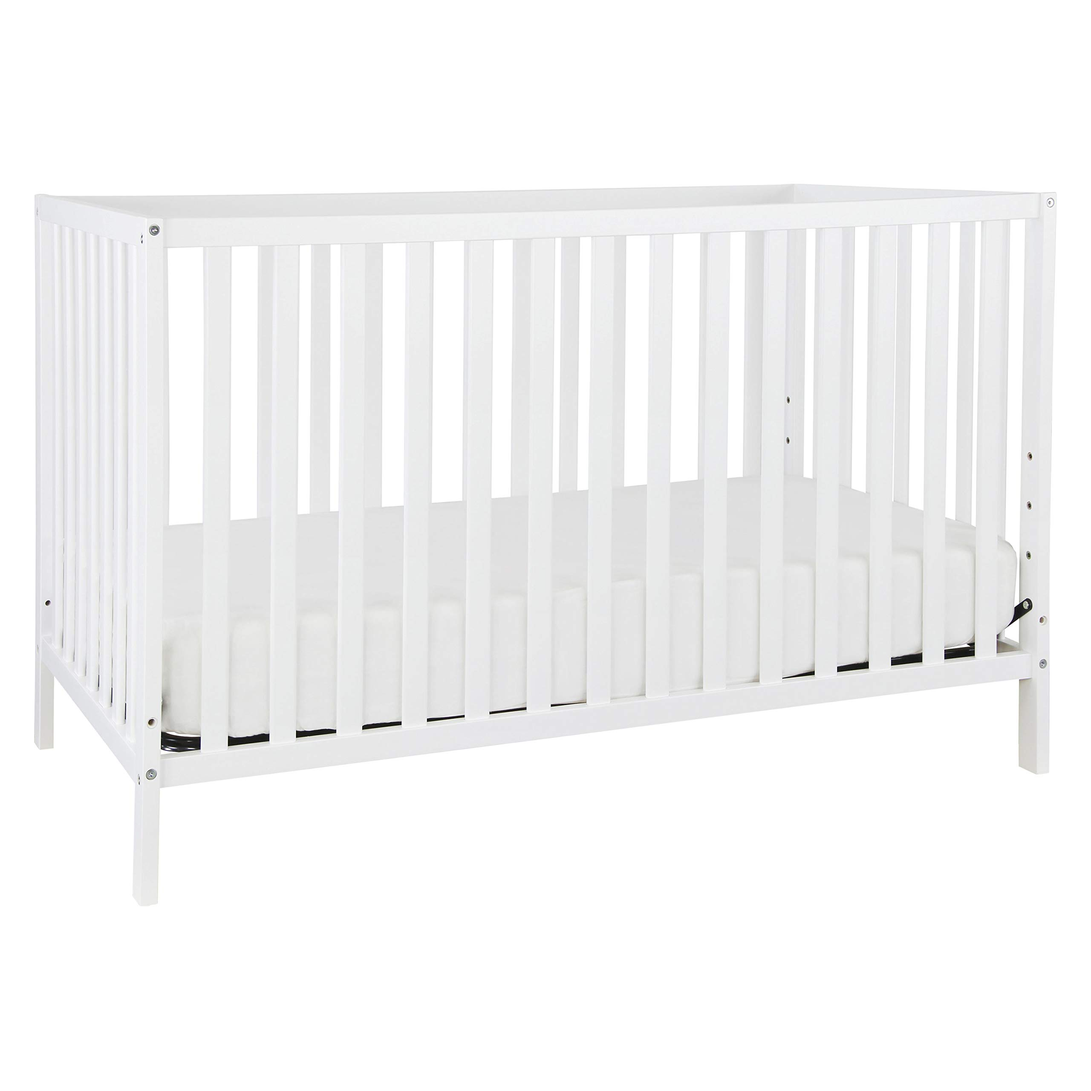crib: (33, 192, 1051, 902)
